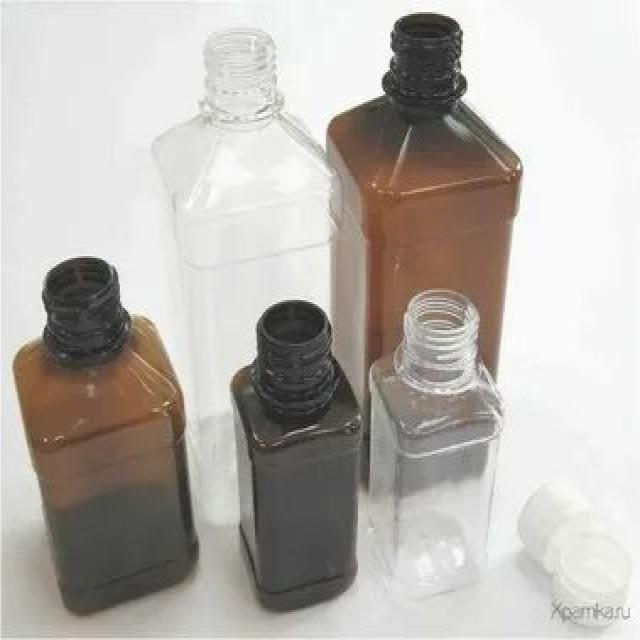brown: (318, 10, 526, 365), (13, 255, 200, 618), (227, 297, 360, 613)
